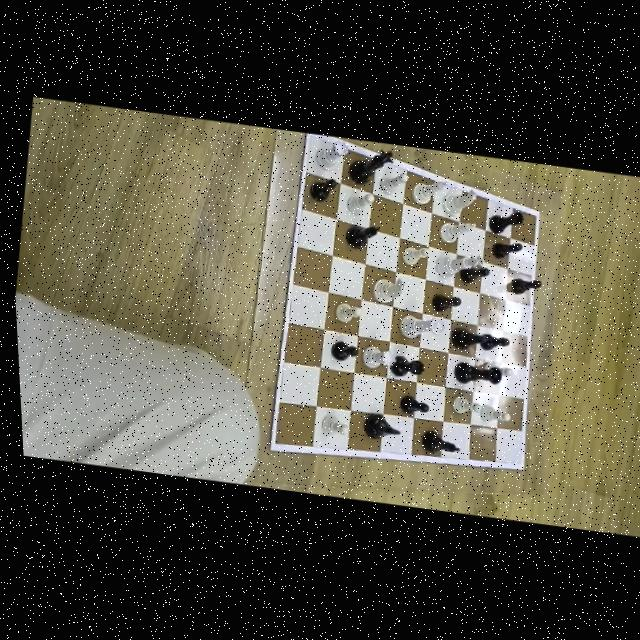chessboard-corner: (261, 449, 269, 457), (513, 469, 522, 475), (534, 209, 542, 215)
